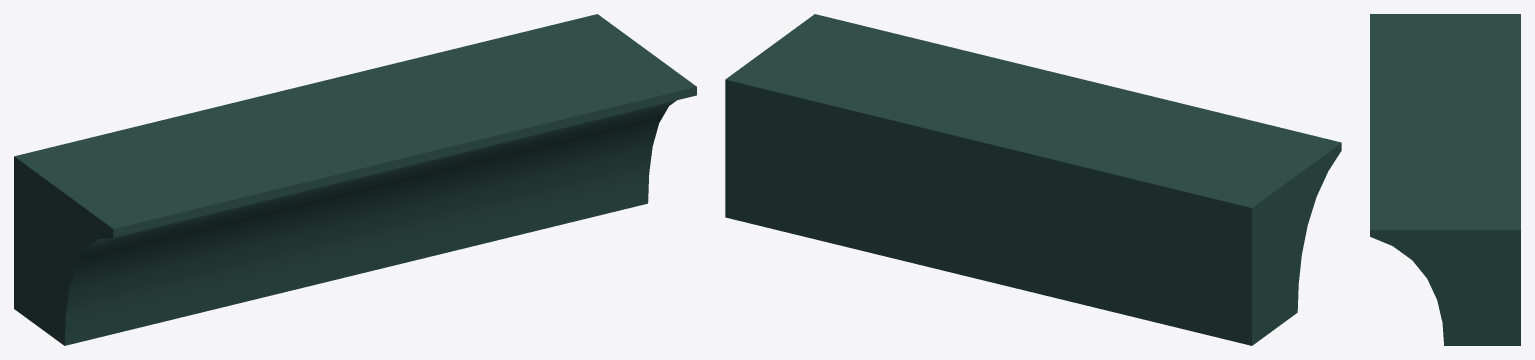
The model's file is W2_Wall_2m_TopCurved.fbx.
3 views of the same model, side by side, from view 1: azimuth 30°, elevation 25°; view 2: azimuth 150°, elevation 25°; view 3: azimuth 270°, elevation 25° (orthographic). The views are drawn at different scales.
Visible parts, largest first — view 1: W2_Wall_2m_TopCurved.001; view 2: W2_Wall_2m_TopCurved.001; view 3: W2_Wall_2m_TopCurved.001.
Boxes of the visible parts, box(x1,y1,x2,y2) form: W2_Wall_2m_TopCurved.001: box(14, 14, 696, 345); W2_Wall_2m_TopCurved.001: box(725, 14, 1341, 345); W2_Wall_2m_TopCurved.001: box(1370, 14, 1520, 345).
Bounding box in the file's own units: 2 × 0.5 × 0.5894.
